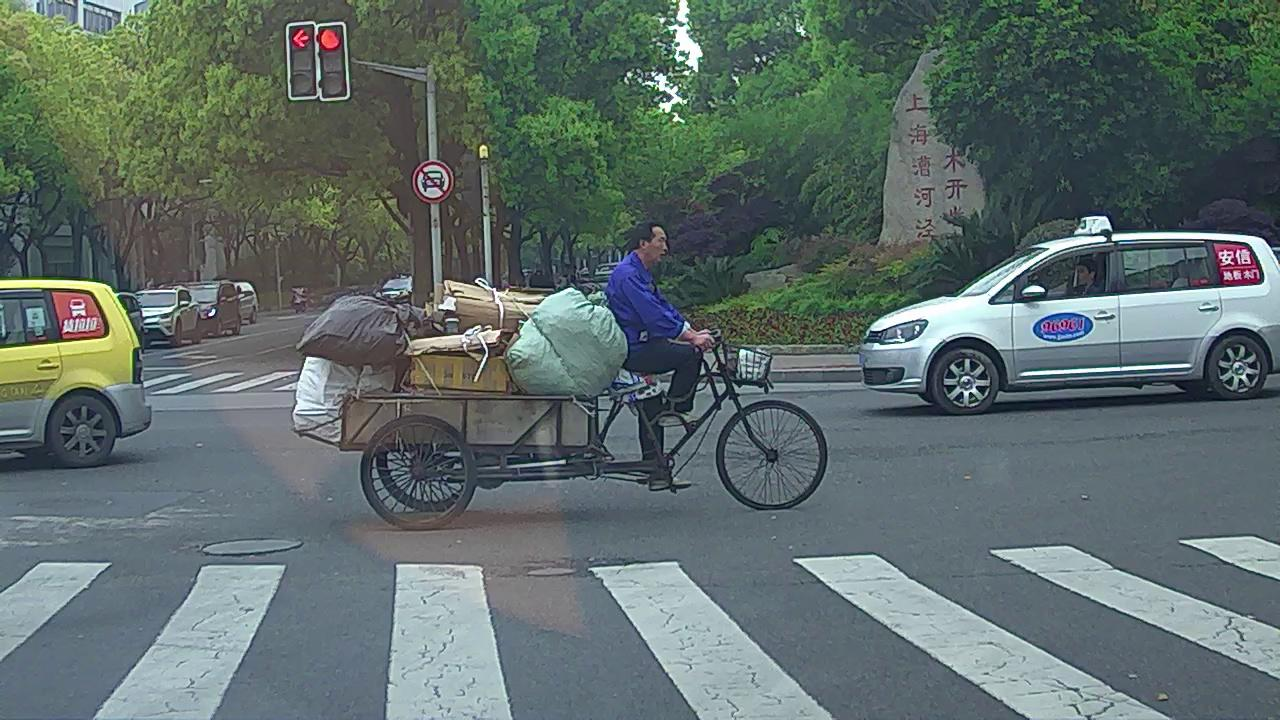traffic_light: (319, 25, 347, 100), (290, 22, 316, 100)
